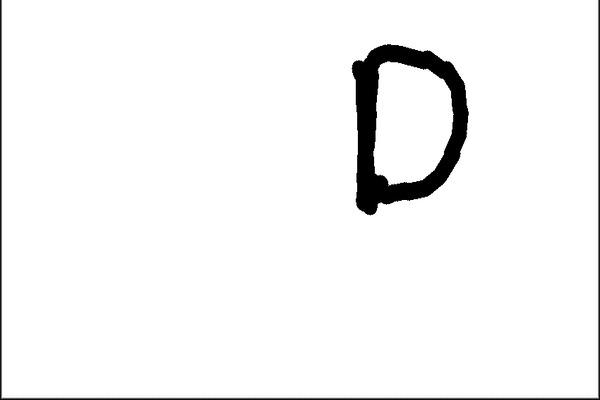D: (346, 38, 477, 221)
